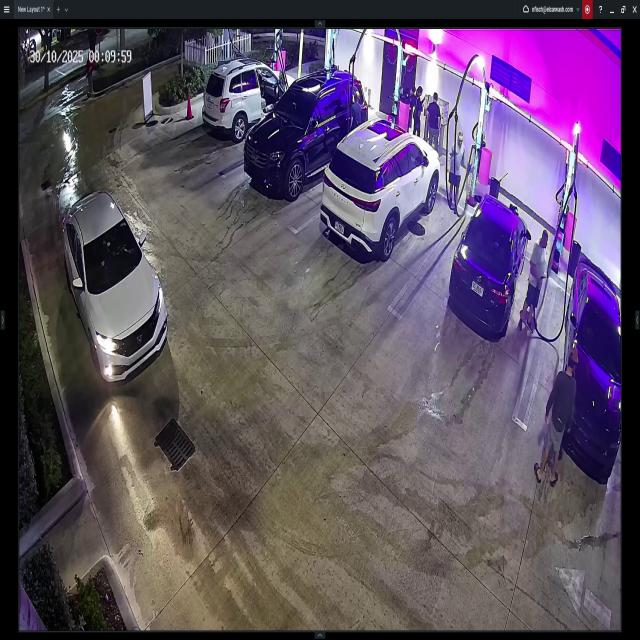Car: (62, 190, 166, 383), (244, 66, 369, 196), (325, 119, 439, 259), (558, 254, 620, 481), (447, 195, 529, 333), (201, 57, 298, 138)
